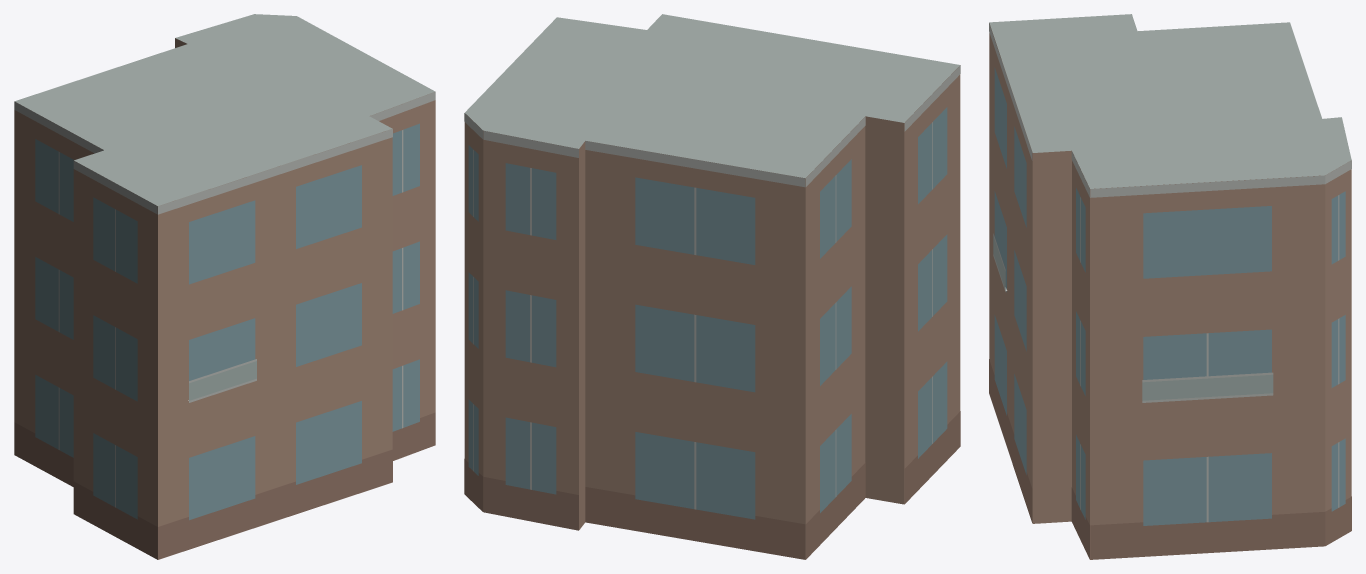
The model's file is survey-upis-32672353.glb.
The picture shows the model from 3 angles, left to right: view 1: azimuth 30°, elevation 25°; view 2: azimuth 150°, elevation 25°; view 3: azimuth 270°, elevation 25°; orthographic projection. The views are drawn at different scales.
Visible parts, largest first — view 1: survey-upis-32672353.tmp; view 2: survey-upis-32672353.tmp; view 3: survey-upis-32672353.tmp.
Boxes of the visible parts, bbox=[...] form: survey-upis-32672353.tmp: bbox=[14, 14, 435, 559]; survey-upis-32672353.tmp: bbox=[464, 14, 960, 559]; survey-upis-32672353.tmp: bbox=[989, 14, 1351, 559].
Bounding box in the file's own units: 10.33 × 10.2 × 9.05.
